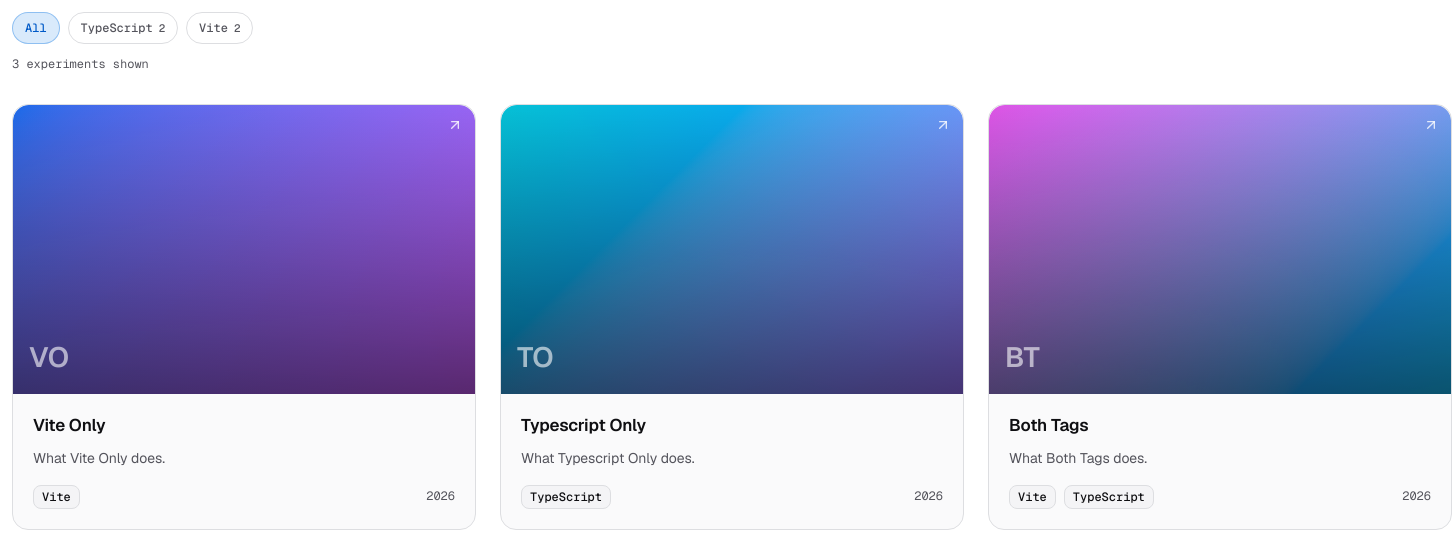
Test case: ExperimentsGallery › uses AND semantics across two tags
Click the button with aria-label "Vite (2)" at (220, 28), box [186,12,253,44]
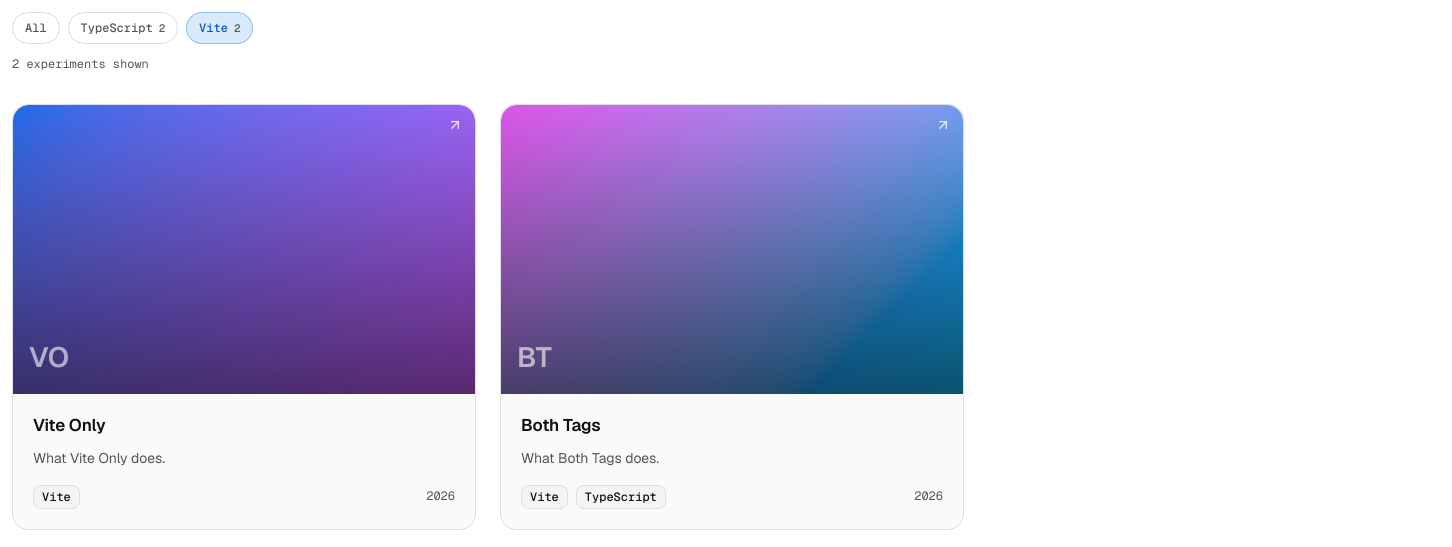
Click the button with aria-label "TypeScript (2)" at (123, 28), box [68,12,178,44]
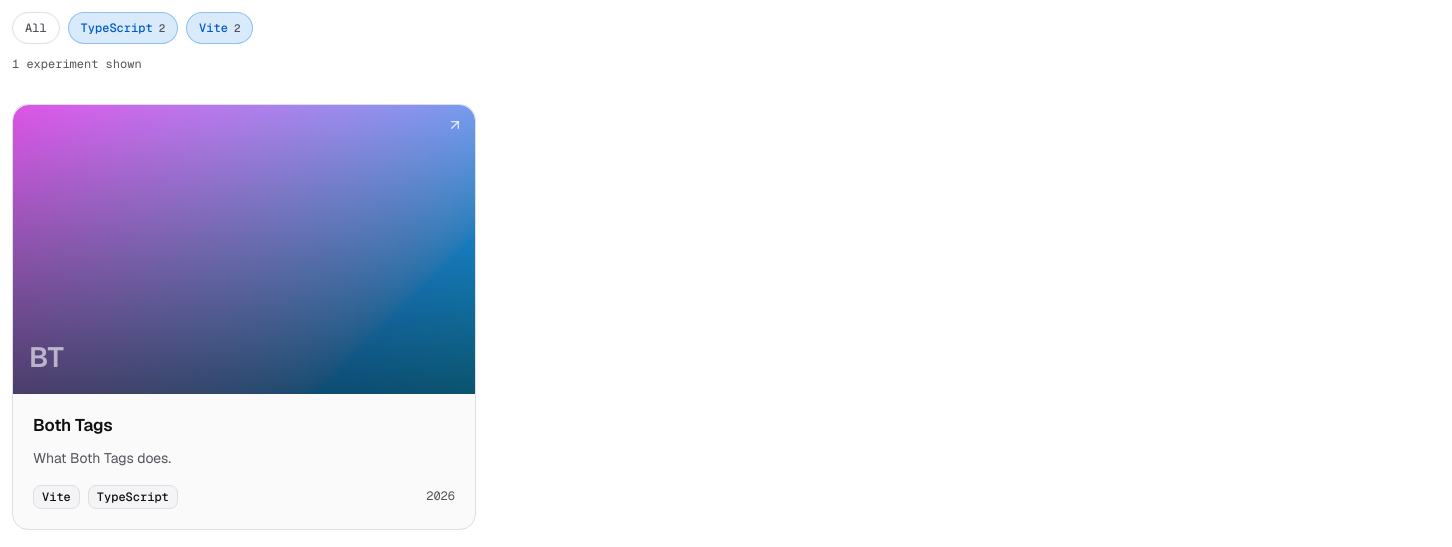
Expected: the text "1 experiment shown" is shown, [12,56,142,72]
